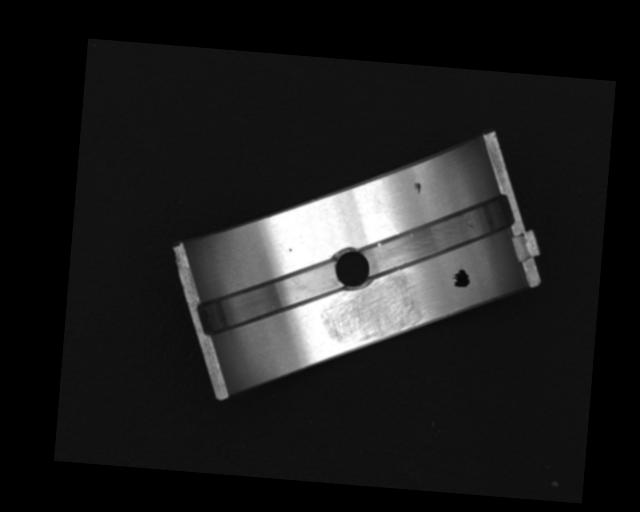blot: (451, 268, 471, 288)
bruise: (412, 180, 423, 195), (288, 247, 292, 252)
gap: (360, 183, 517, 290), (191, 249, 343, 347)
hole: (328, 243, 377, 293)
nick: (376, 200, 401, 234)
scratch: (316, 269, 429, 350)
